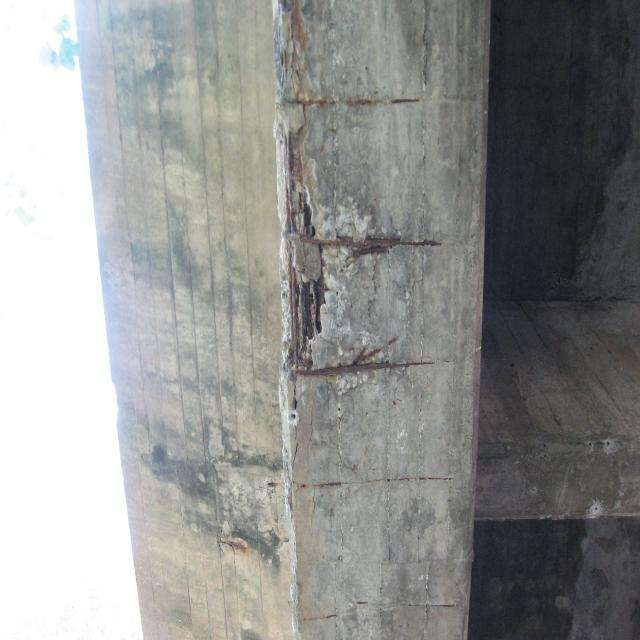corrosion: (268, 4, 462, 388), (263, 475, 462, 529), (285, 591, 464, 631), (213, 532, 253, 560)
